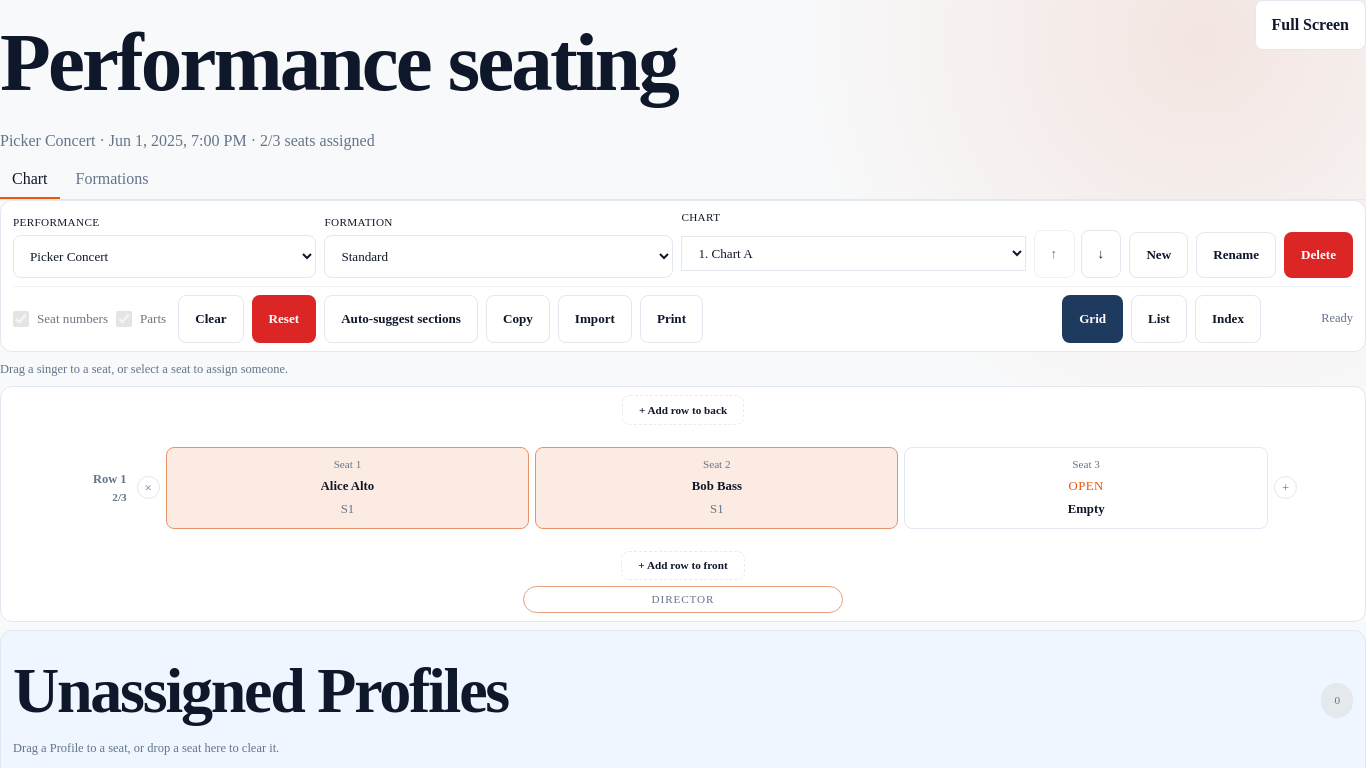
Seat assignment candidate picker › explains all eligible seated in both the tray and seat dialog
The width and height of the screenshot is (1366, 768).
Click the button named "Seat 3, empty": [1086, 488] box [904,447,1268,529]
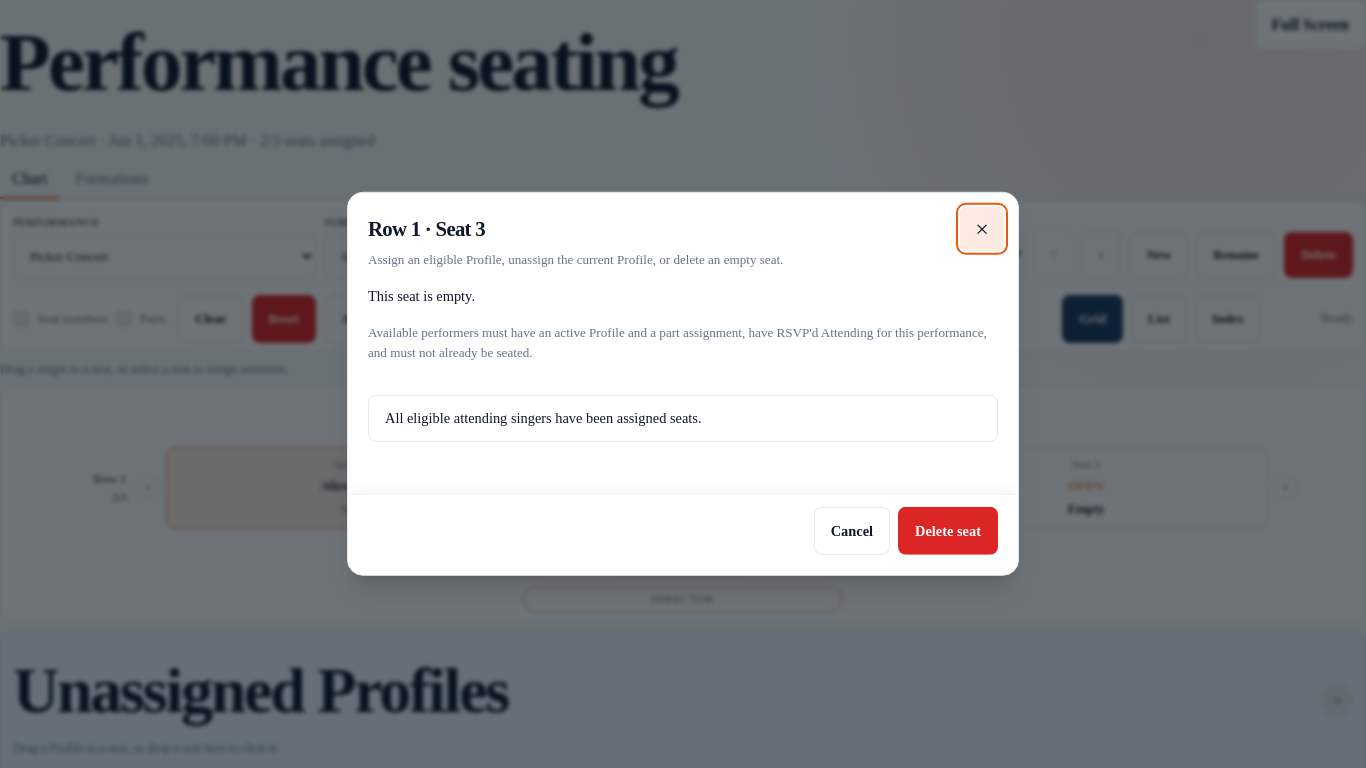
expect the text "All eligible attending singers have been assigned seats." is shown: met, box [368,395,998,442]
expect the dialog shows "have RSVP'd Attending": met, box [368,325,987,360]
expect the button "Cancel" is enabled: met, box [814,507,890,555]
